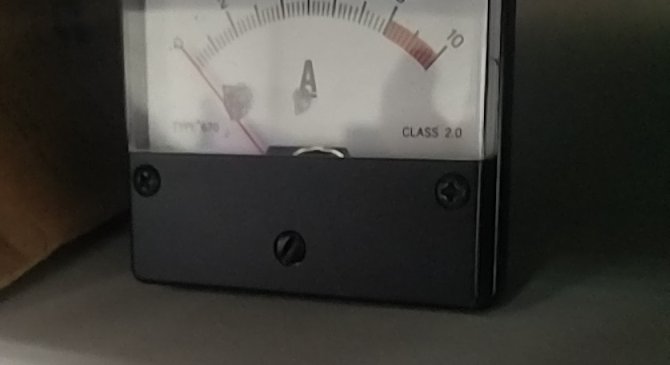Amp_Meter: (140, 1, 497, 159)
